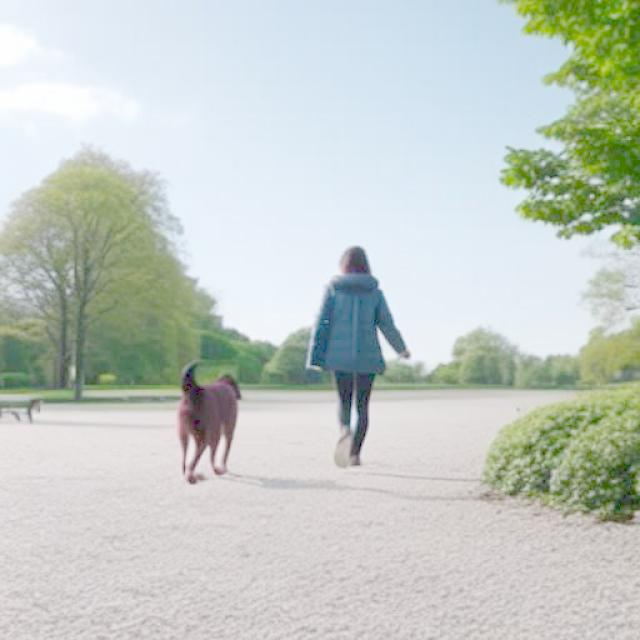Unleashed_Dog: (176, 361, 372, 486)
